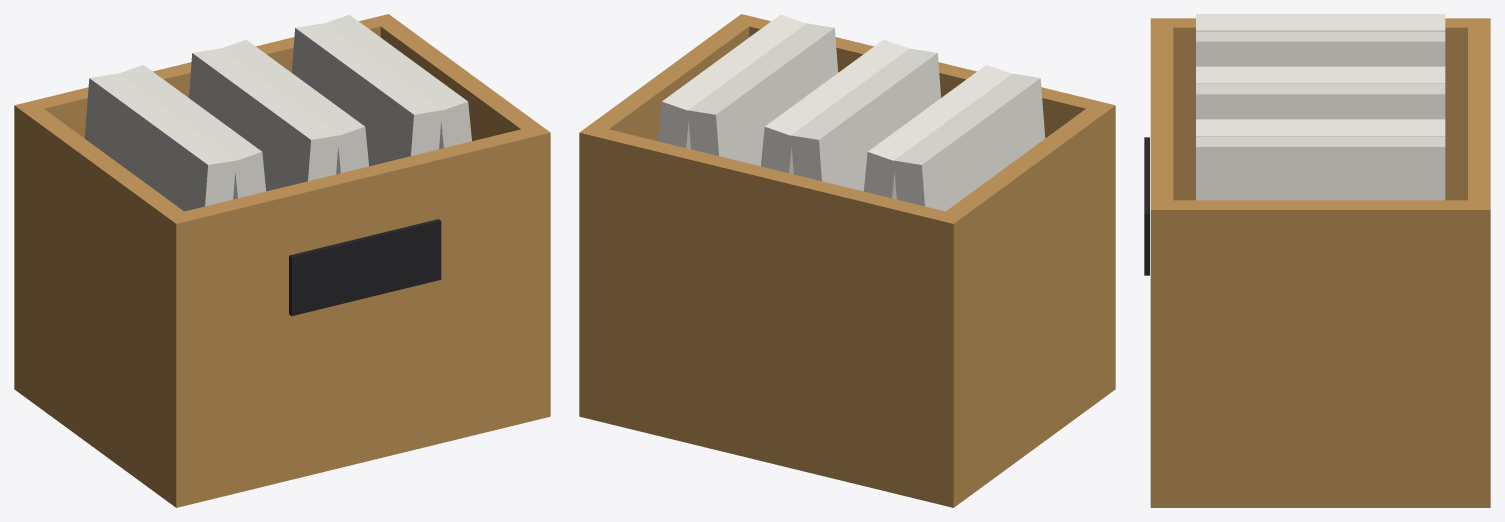
File: contracts_box.glb
3 views of the same model, side by side, from view 1: azimuth 30°, elevation 25°; view 2: azimuth 150°, elevation 25°; view 3: azimuth 270°, elevation 25° (orthographic). The views are drawn at different scales.
Visible parts, largest first — view 1: side_cardboard, contracts_contract_paper, bottom_cardboard, label_box_label; view 2: side_cardboard, contracts_contract_paper, bottom_cardboard; view 3: side_cardboard, contracts_contract_paper, bottom_cardboard, label_box_label.
Part boxes in pixels (x1,y1,x2,y2): side_cardboard: (14,14,550,497); contracts_contract_paper: (84,14,471,211); bottom_cardboard: (14,370,550,507); label_box_label: (289,219,441,316); side_cardboard: (579,14,1115,497); contracts_contract_paper: (658,14,1045,211); bottom_cardboard: (579,370,1115,507); side_cardboard: (1150,18,1490,497); contracts_contract_paper: (1196,14,1445,200); bottom_cardboard: (1150,487,1490,507); label_box_label: (1144,137,1149,275).
Size of the model in its own units: 0.4 by 0.3207 by 0.3055.
